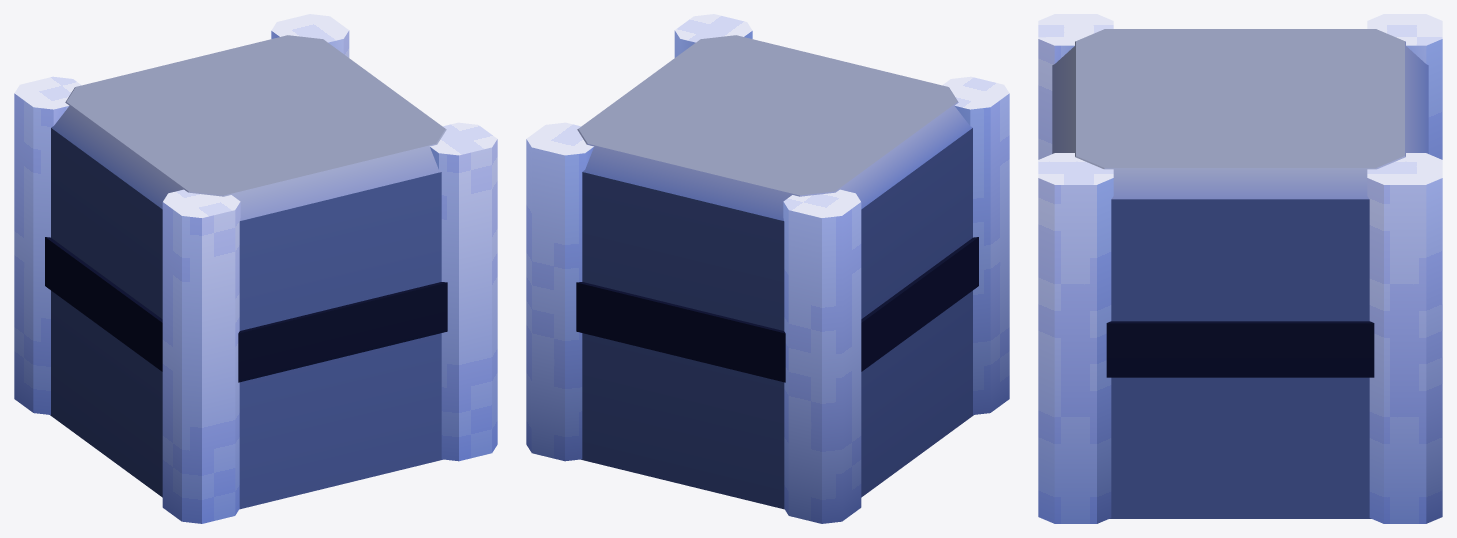
File: tech.crate.glb
The picture shows the model from 3 angles, left to right: view 1: azimuth 30°, elevation 25°; view 2: azimuth 150°, elevation 25°; view 3: azimuth 270°, elevation 25°; orthographic projection. The views are drawn at different scales.
Parts seen in each view (by area): view 1: kit_box, kit_corners, kit_band; view 2: kit_box, kit_corners, kit_band; view 3: kit_box, kit_corners, kit_band.
Part boxes in pixels (box(x1,y1,x2,y2)): kit_box: box(50, 35, 446, 509); kit_corners: box(14, 14, 497, 523); kit_band: box(45, 237, 447, 382); kit_box: box(577, 35, 973, 509); kit_corners: box(526, 14, 1009, 523); kit_band: box(576, 237, 978, 382); kit_box: box(1052, 29, 1428, 518); kit_corners: box(1038, 14, 1442, 523); kit_band: box(1106, 321, 1374, 377).
Size of the model in its own units: 0.86 by 0.8 by 0.86.
Materials: 3 (1 with a texture image).
